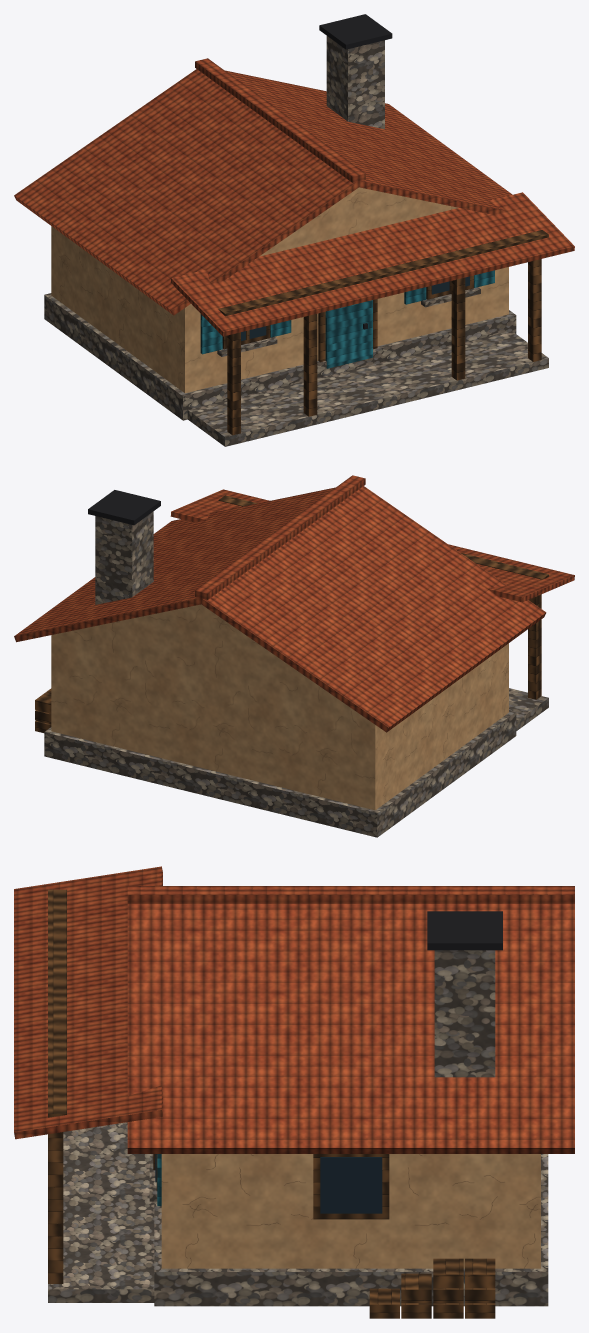
Rendered from CasaRustica1.obj.
3 renders of one model, top to bottom at view 1: azimuth 30°, elevation 25°; view 2: azimuth 150°, elevation 25°; view 3: azimuth 270°, elevation 25°, orthographic. The views are drawn at different scales.
Visible parts, largest first — view 1: CasaRustica1; view 2: CasaRustica1; view 3: CasaRustica1.
Boxes of the visible parts, x1,y1,x2,y2 form: CasaRustica1: [14, 14, 574, 446]; CasaRustica1: [14, 475, 574, 837]; CasaRustica1: [14, 866, 574, 1318].
Size of the model in its own units: 8.25 by 5 by 7.4.
7 materials, 5 textured.
